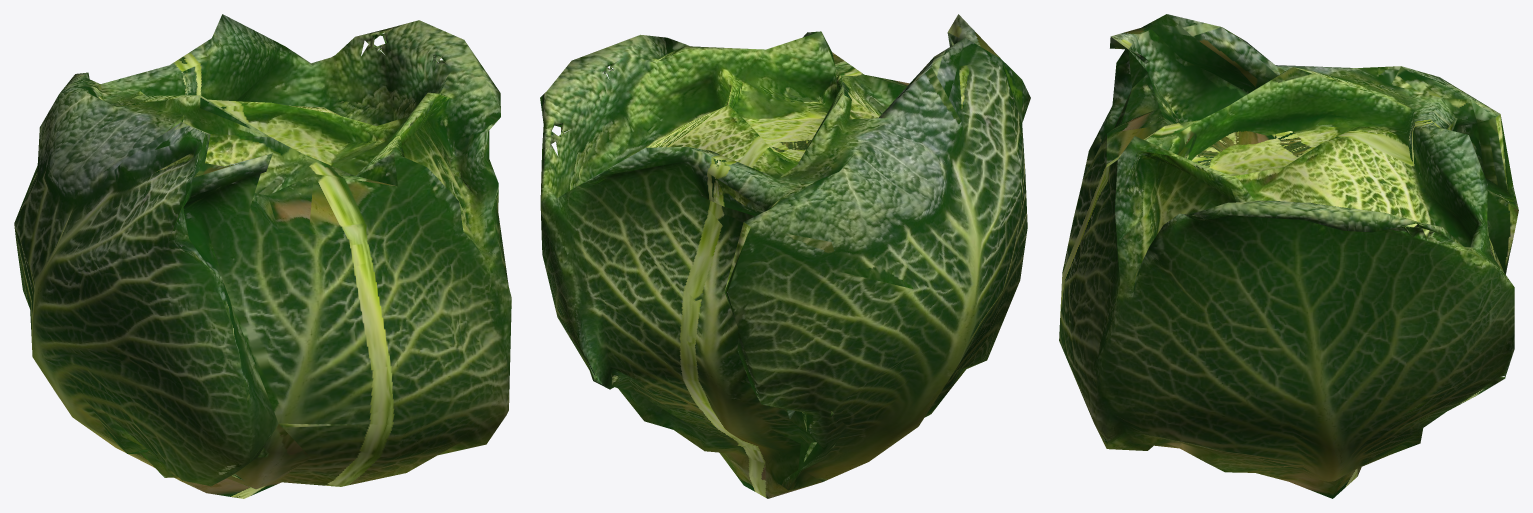
File: Lettuce.fbx
3 views of the same model, side by side, from view 1: azimuth 30°, elevation 25°; view 2: azimuth 150°, elevation 25°; view 3: azimuth 270°, elevation 25° (orthographic). The views are drawn at different scales.
Visible parts, largest first — view 1: 50_cabbage; view 2: 50_cabbage; view 3: 50_cabbage.
Part boxes in pixels (x1,y1,x2,y2): 50_cabbage: (14,14,511,498); 50_cabbage: (540,14,1030,498); 50_cabbage: (1059,14,1518,498).
Bounding box in the file's own units: 95.43 × 96.09 × 93.93.
Materials: 1 (1 with a texture image).
